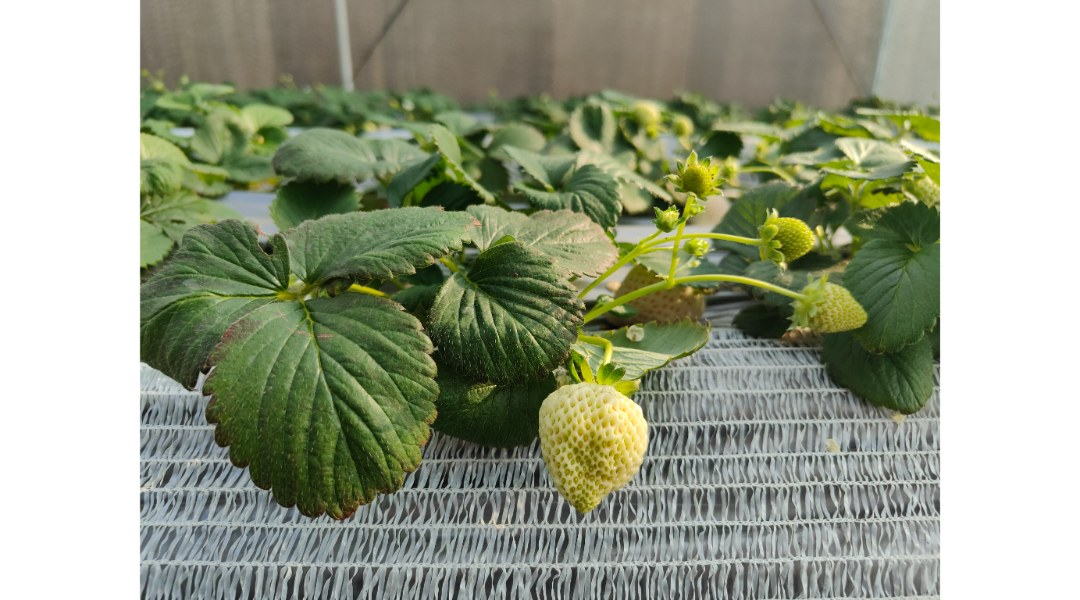berry: (524, 358, 656, 516), (776, 275, 876, 342), (755, 196, 820, 270), (673, 154, 727, 202), (643, 201, 687, 232), (684, 238, 714, 265)
strain: (582, 284, 665, 334), (679, 272, 801, 302), (715, 226, 767, 245)
